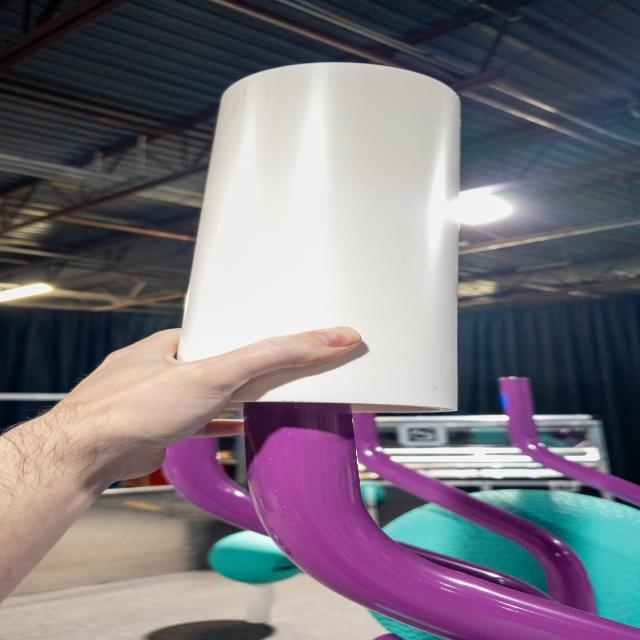Algae: (365, 489, 640, 640), (208, 530, 302, 584)
Coral: (175, 62, 462, 414), (233, 582, 274, 626)
